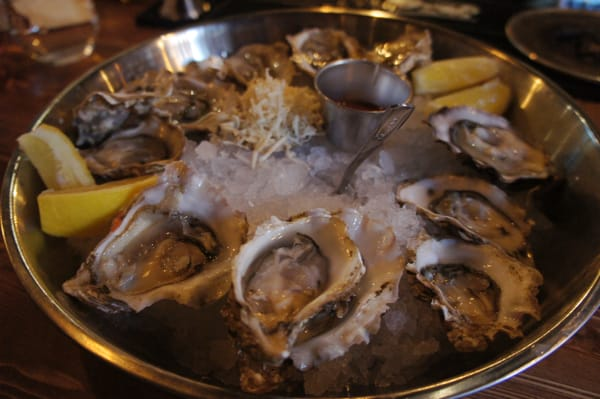pizza: (5, 1, 102, 67)
salad: (333, 103, 416, 196)
steak: (36, 173, 161, 239)
